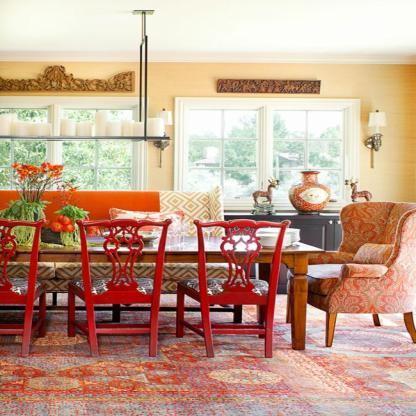chair: (291, 197, 416, 355), (174, 215, 287, 363), (62, 217, 173, 362), (0, 212, 42, 354)
light: (153, 109, 174, 171), (364, 114, 384, 167)
sofa: (0, 184, 231, 313)
table: (0, 224, 332, 357)
